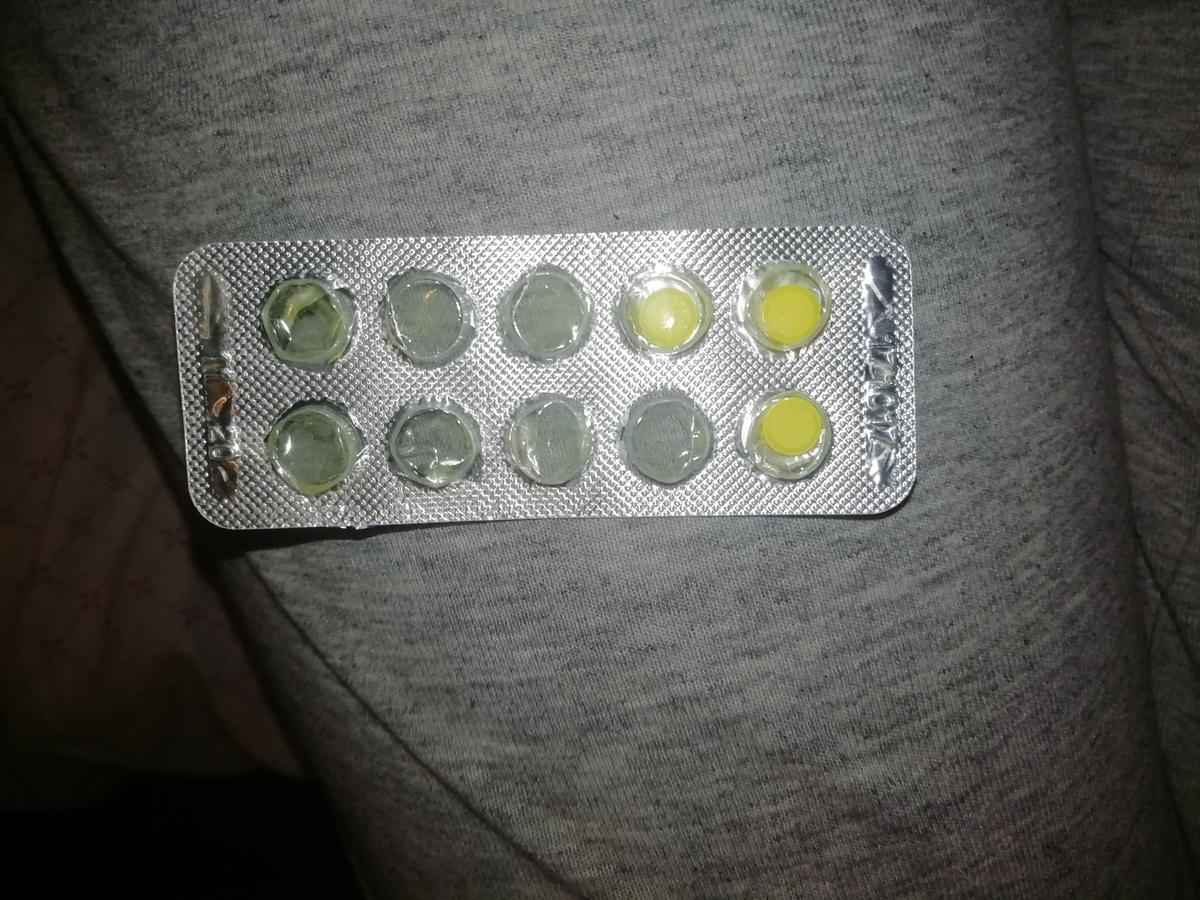tablet: (620, 267, 715, 369), (741, 262, 836, 364), (739, 378, 834, 480)
